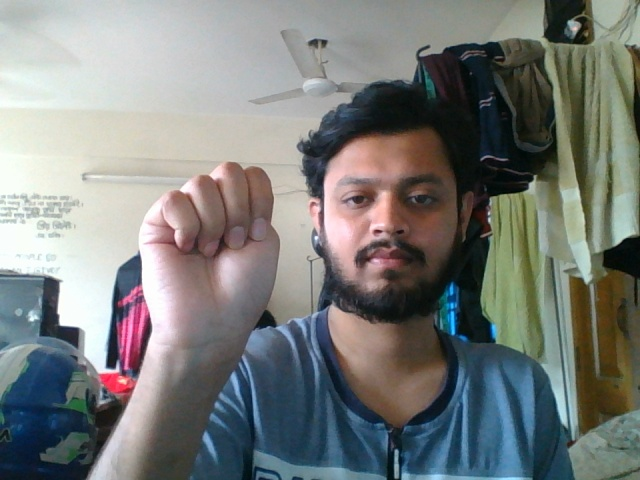to: (105, 153, 294, 377)
